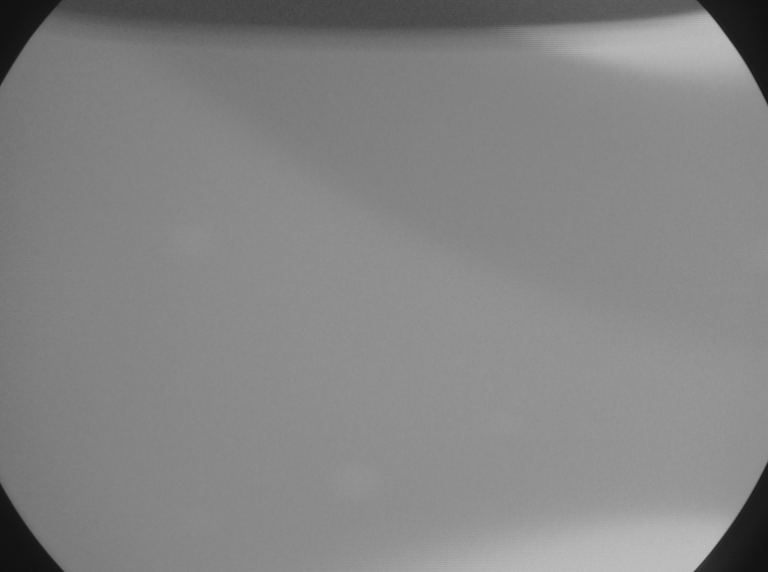defect: (326, 461, 392, 499)
